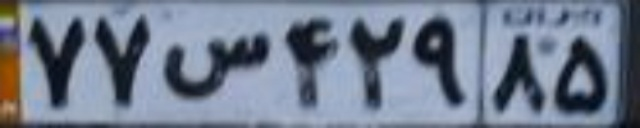2: (347, 17, 401, 110)
4: (281, 18, 338, 107)
5: (551, 36, 612, 114)
7: (27, 14, 86, 108), (90, 13, 148, 106)
8: (487, 34, 546, 113)
9: (411, 17, 462, 104)
sin: (161, 30, 271, 99)
